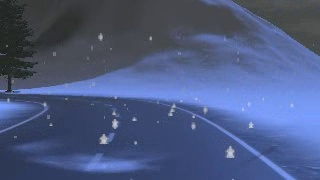Lane: (0, 93, 295, 179)
